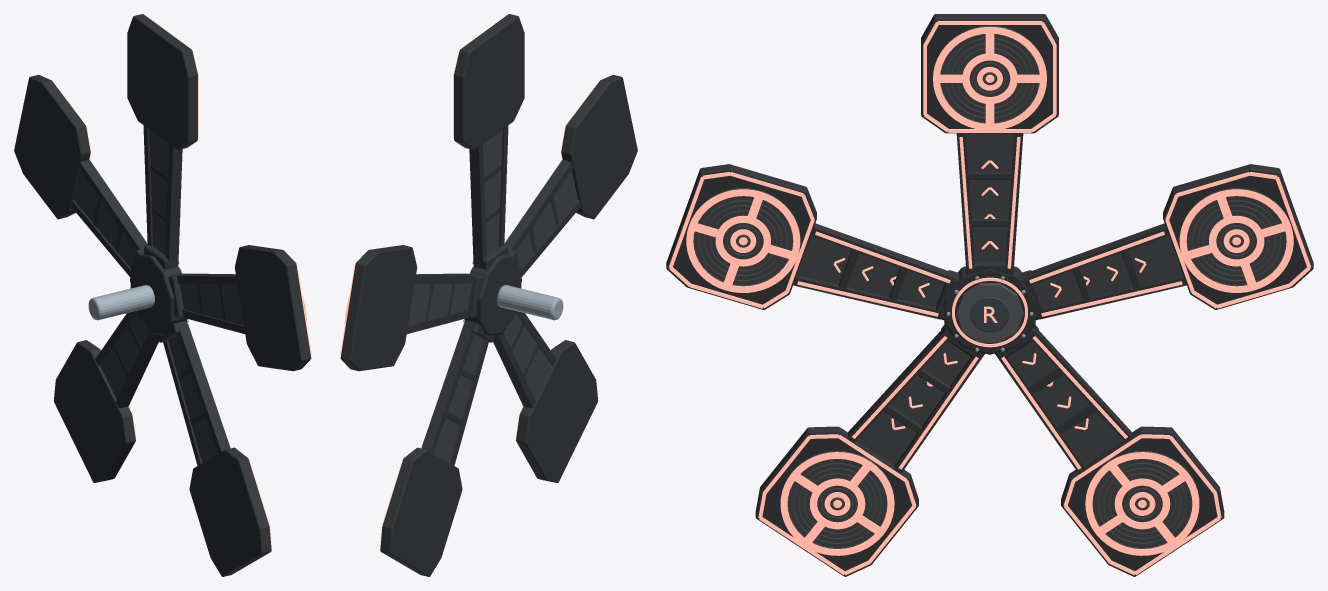
The model's file is rune-ch4v2.glb.
3 views of the same model, side by side, from view 1: azimuth 30°, elevation 25°; view 2: azimuth 150°, elevation 25°; view 3: azimuth 270°, elevation 25° (orthographic). The views are drawn at different scales.
Visible parts, largest first — view 1: RuneArm_2_RuneFrameGraphite, RuneArm_0_RuneFrameGraphite, RuneArm_4_RuneFrameGraphite, RuneArm_1_RuneFrameGraphite, RuneArm_3_RuneFrameGraphite, RuneHub, ArmChannel.001, ArmChannel.002, ArmChannel, ArmChannel.004, ArmChannel.003, RuneRotor_BrushedTitanium; view 2: RuneArm_3_RuneFrameGraphite, RuneArm_0_RuneFrameGraphite, RuneArm_1_RuneFrameGraphite, RuneArm_4_RuneFrameGraphite, RuneArm_2_RuneFrameGraphite, RuneHub, ArmChannel.004, ArmChannel.003, ArmChannel, ArmChannel.001, ArmChannel.002, RuneRotor_BrushedTitanium; view 3: RuneArm_1_RuneFrameGraphite, RuneArm_4_RuneFrameGraphite, RuneArm_2_RuneFrameGraphite, RuneArm_3_RuneFrameGraphite, RuneArm_0_RuneFrameGraphite, TargetPlate, TargetPlate.002, TargetPlate.003, TargetPlate.001, TargetPlate.004, ArmChannel, ArmChannel.002 (+27 smaller).
Part boxes in pixels (x1=…): RuneArm_2_RuneFrameGraphite: x1=157, y1=320, x2=271, y2=576; RuneArm_0_RuneFrameGraphite: x1=127, y1=14, x2=197, y2=269; RuneArm_4_RuneFrameGraphite: x1=14, y1=74, x2=147, y2=282; RuneArm_1_RuneFrameGraphite: x1=168, y1=245, x2=311, y2=371; RuneArm_3_RuneFrameGraphite: x1=53, y1=311, x2=158, y2=482; RuneHub: x1=130, y1=254, x2=187, y2=335; ArmChannel.001: x1=180, y1=283, x2=243, y2=325; ArmChannel.002: x1=168, y1=335, x2=218, y2=462; ArmChannel: x1=149, y1=129, x2=168, y2=254; ArmChannel.004: x1=74, y1=170, x2=135, y2=267; ArmChannel.003: x1=100, y1=312, x2=147, y2=399; RuneRotor_BrushedTitanium: x1=88, y1=261, x2=188, y2=322; RuneArm_3_RuneFrameGraphite: x1=380, y1=320, x2=494, y2=576; RuneArm_0_RuneFrameGraphite: x1=454, y1=14, x2=524, y2=269; RuneArm_1_RuneFrameGraphite: x1=504, y1=74, x2=637, y2=282; RuneArm_4_RuneFrameGraphite: x1=340, y1=245, x2=483, y2=371; RuneArm_2_RuneFrameGraphite: x1=493, y1=311, x2=598, y2=482; RuneHub: x1=464, y1=254, x2=521, y2=335; ArmChannel.004: x1=408, y1=283, x2=471, y2=325; ArmChannel.003: x1=433, y1=335, x2=483, y2=462; ArmChannel: x1=483, y1=129, x2=502, y2=254; ArmChannel.001: x1=516, y1=170, x2=577, y2=267; ArmChannel.002: x1=504, y1=312, x2=551, y2=399; RuneRotor_BrushedTitanium: x1=463, y1=261, x2=563, y2=322; RuneArm_1_RuneFrameGraphite: x1=666, y1=164, x2=958, y2=320; RuneArm_4_RuneFrameGraphite: x1=1021, y1=164, x2=1313, y2=320; RuneArm_2_RuneFrameGraphite: x1=755, y1=325, x2=985, y2=576; RuneArm_3_RuneFrameGraphite: x1=994, y1=325, x2=1224, y2=576; RuneArm_0_RuneFrameGraphite: x1=921, y1=14, x2=1058, y2=274; TargetPlate: x1=933, y1=25, x2=1046, y2=123; TargetPlate.002: x1=780, y1=451, x2=894, y2=548; TargetPlate.003: x1=1085, y1=451, x2=1199, y2=548; TargetPlate.001: x1=686, y1=188, x2=800, y2=286; TargetPlate.004: x1=1179, y1=188, x2=1293, y2=286; ArmChannel: x1=965, y1=133, x2=1014, y2=261; ArmChannel.002: x1=856, y1=341, x2=970, y2=465.
Bounding box in the file's own units: 0.2855 × 1.66 × 1.75.
